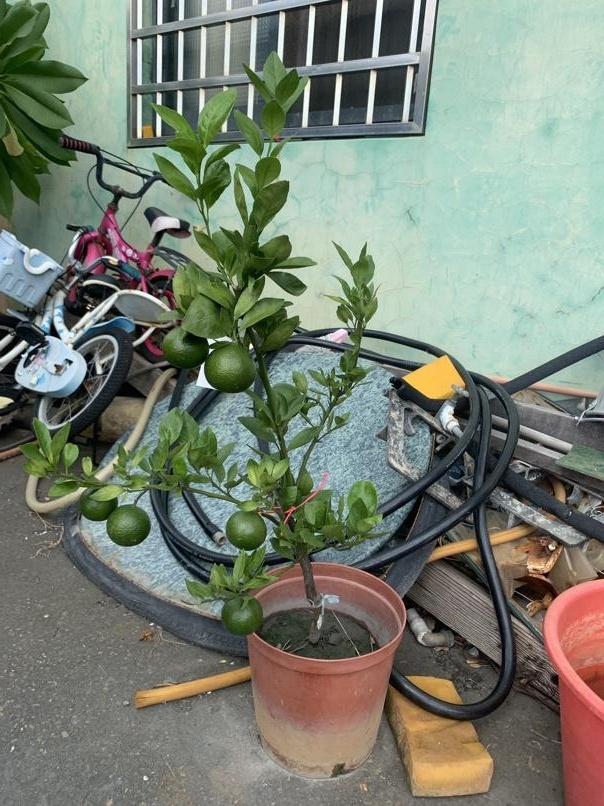Tangerine: (206, 338, 258, 393), (163, 323, 210, 372), (225, 503, 267, 551), (106, 504, 151, 546), (223, 594, 264, 637), (78, 489, 118, 521)
